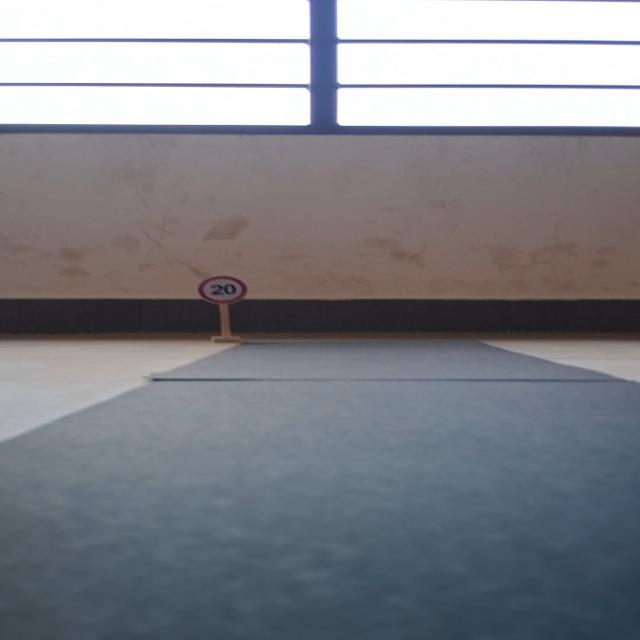Speed20: (191, 272, 252, 307)
